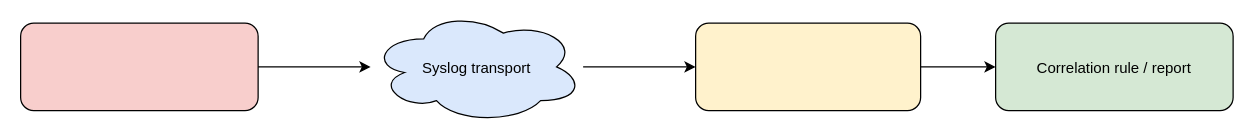
Some shapes in this 1254 by 138 pixel diagram are drawn without their labels. The box of each missing label's shape, as (x1, y1, x2, y2) in pixels:
FortiDDoS attack/anomaly event: (19, 22, 258, 111)
FortiSIEM parser event type: (694, 22, 921, 111)
